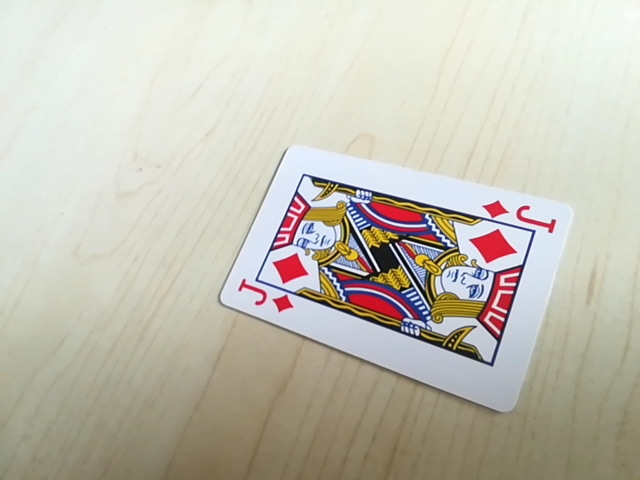fk j: (481, 197, 562, 230), (233, 285, 294, 319)
